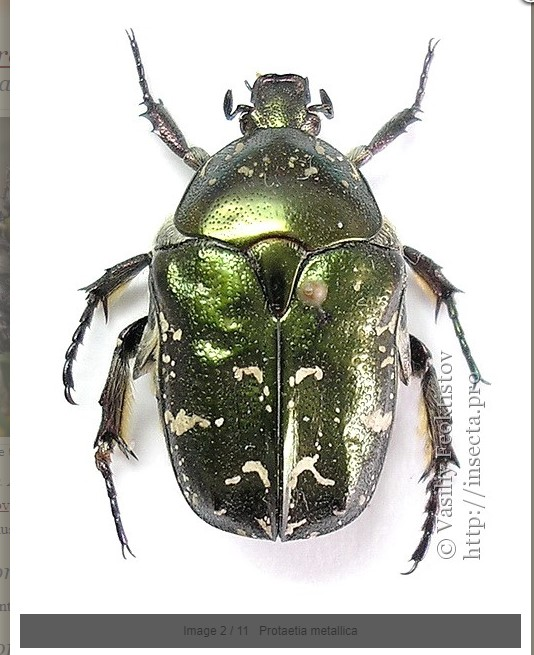Protaetia_metallica: (49, 23, 461, 584)
